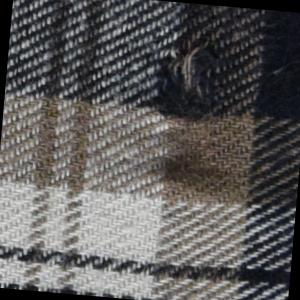Damage: (149, 2, 248, 129)
Stain: (150, 141, 242, 205)
